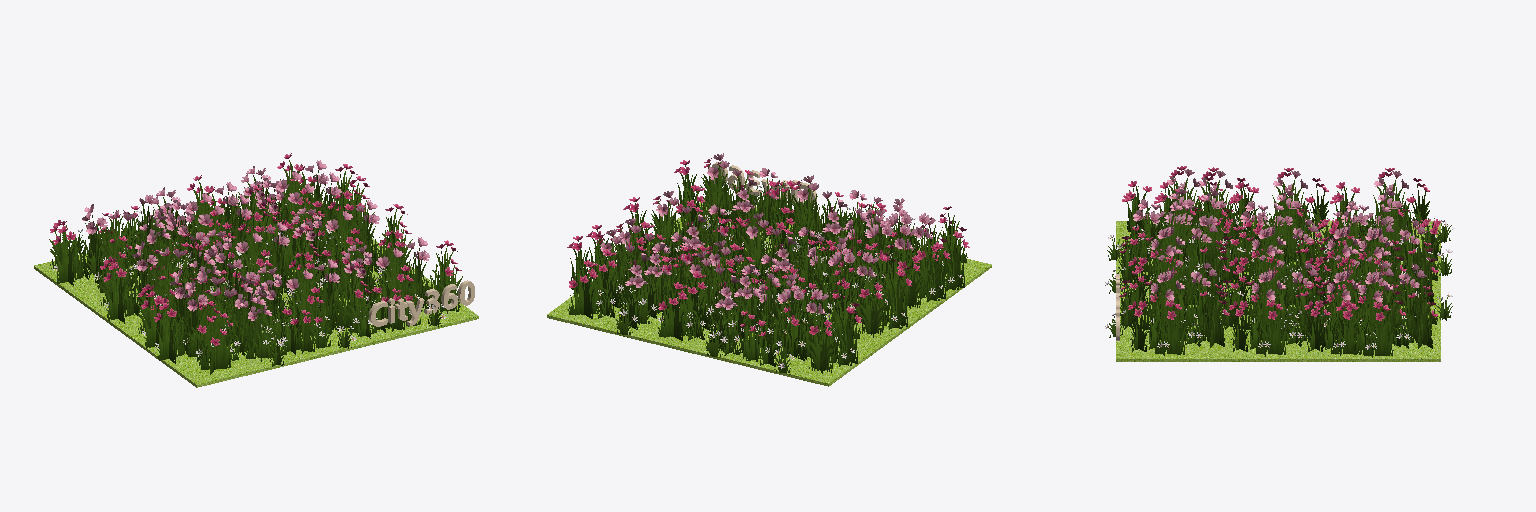
3 renders of one model, left to right at view 1: azimuth 30°, elevation 25°; view 2: azimuth 150°, elevation 25°; view 3: azimuth 270°, elevation 25°, orthographic.
Visible parts, largest first — view 1: Mesh1 Group1 Model, Mesh36 skp65F6_1 Model, Mesh375 skp65F6_4 Model, Mesh149 skp65F6_2 Model, Mesh411 skp65F6_4 Model, Mesh374 skp65F6_4 Model, Mesh600 skp65F6_6 Model; view 2: Mesh1 Group1 Model, Mesh34 skp65F6_1 Model, Mesh36 skp65F6_1 Model, Mesh149 skp65F6_2 Model, Mesh147 skp65F6_2 Model; view 3: Mesh1 Group1 Model, Mesh1277 skp65F6_12 Model, Mesh1051 skp65F6_10 Model, Mesh974 skp65F6_9 Model, Mesh599 skp65F6_6 Model, Mesh938 skp65F6_9 Model, Mesh1313 skp65F6_12 Model, Mesh1200 skp65F6_11 Model, Mesh1087 skp65F6_10 Model.
Part boxes in pixels (left/top/right/bottom): Mesh1 Group1 Model: left=34, top=197, right=478, bottom=387; Mesh36 skp65F6_1 Model: left=56, top=219, right=144, bottom=283; Mesh375 skp65F6_4 Model: left=157, top=296, right=257, bottom=360; Mesh149 skp65F6_2 Model: left=107, top=257, right=208, bottom=320; Mesh411 skp65F6_4 Model: left=201, top=319, right=231, bottom=369; Mesh374 skp65F6_4 Model: left=169, top=300, right=266, bottom=352; Mesh600 skp65F6_6 Model: left=256, top=273, right=368, bottom=332; Mesh1 Group1 Model: left=547, top=202, right=991, bottom=386; Mesh34 skp65F6_1 Model: left=758, top=290, right=853, bottom=365; Mesh36 skp65F6_1 Model: left=755, top=300, right=858, bottom=363; Mesh149 skp65F6_2 Model: left=805, top=263, right=908, bottom=326; Mesh147 skp65F6_2 Model: left=809, top=254, right=905, bottom=325; Mesh1 Group1 Model: left=1116, top=221, right=1440, bottom=361; Mesh1277 skp65F6_12 Model: left=1120, top=283, right=1224, bottom=343; Mesh1051 skp65F6_10 Model: left=1219, top=283, right=1325, bottom=340; Mesh974 skp65F6_9 Model: left=1363, top=310, right=1394, bottom=355; Mesh599 skp65F6_6 Model: left=1118, top=240, right=1224, bottom=298; Mesh938 skp65F6_9 Model: left=1327, top=285, right=1432, bottom=344; Mesh1313 skp65F6_12 Model: left=1155, top=310, right=1186, bottom=354; Mesh1200 skp65F6_11 Model: left=1331, top=309, right=1362, bottom=354; Mesh1087 skp65F6_10 Model: left=1256, top=310, right=1287, bottom=354.
Bounding box in the file's own units: 108 × 25.16 × 108.
3 materials, 2 textured.